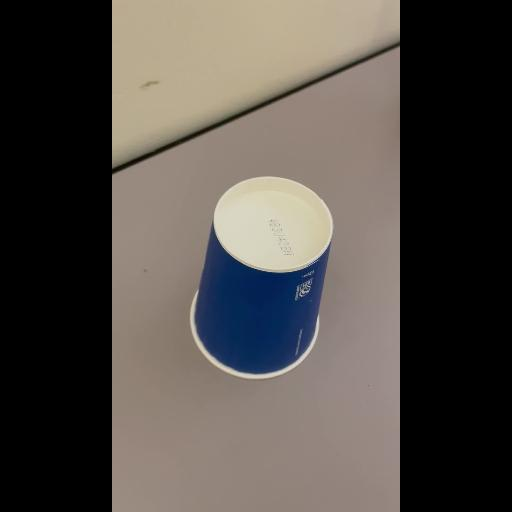lp_paper_cup: (186, 174, 334, 372)
